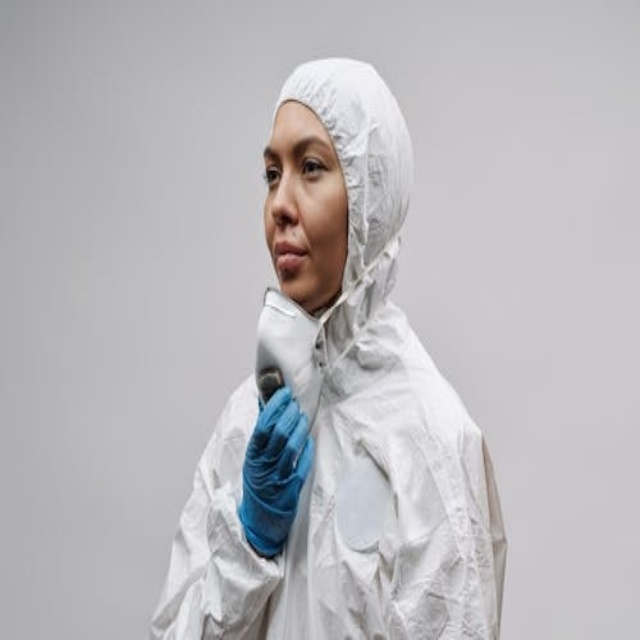Guantes: (238, 383, 314, 559)
Sin_gafas: (256, 125, 333, 184)
Sin_mascara: (265, 224, 324, 286)
